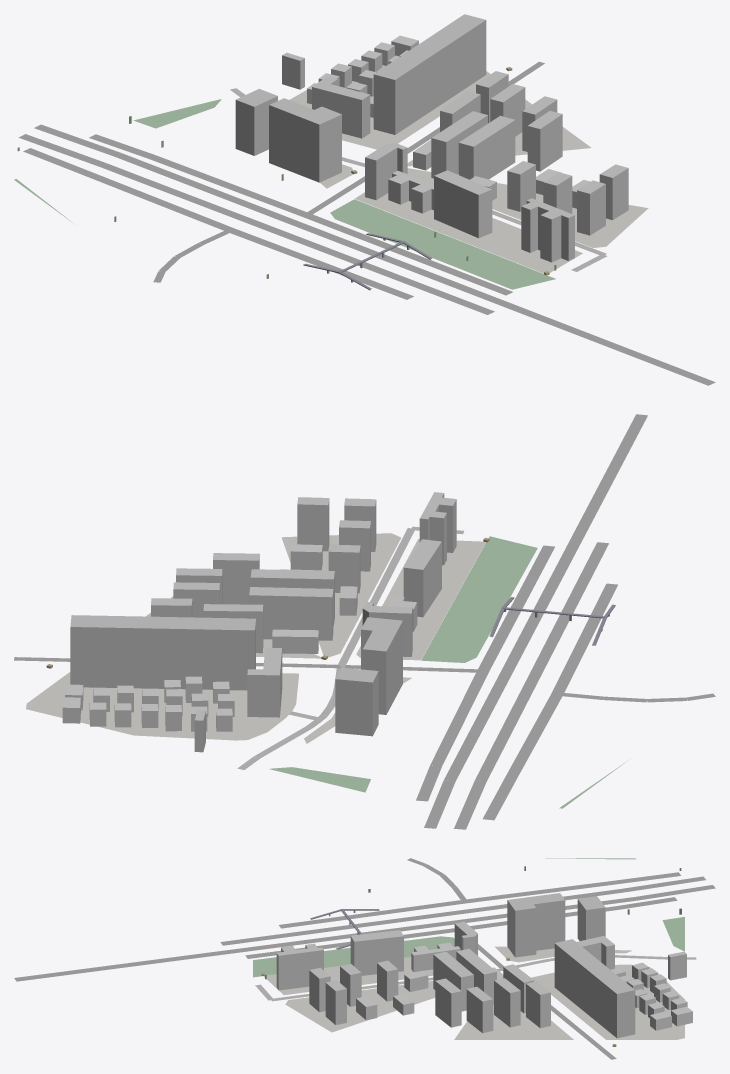
The picture shows the model from 3 angles, top to bottom: view 1: azimuth 30°, elevation 25°; view 2: azimuth 150°, elevation 25°; view 3: azimuth 270°, elevation 25°; orthographic projection. The views are drawn at different scales.
Size of the model in its own units: 556 by 60.51 by 813.
